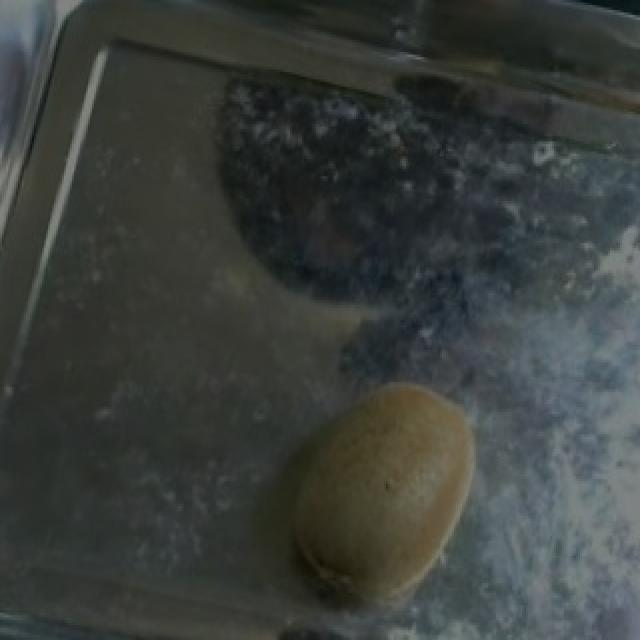Fruit: (270, 360, 496, 628)
